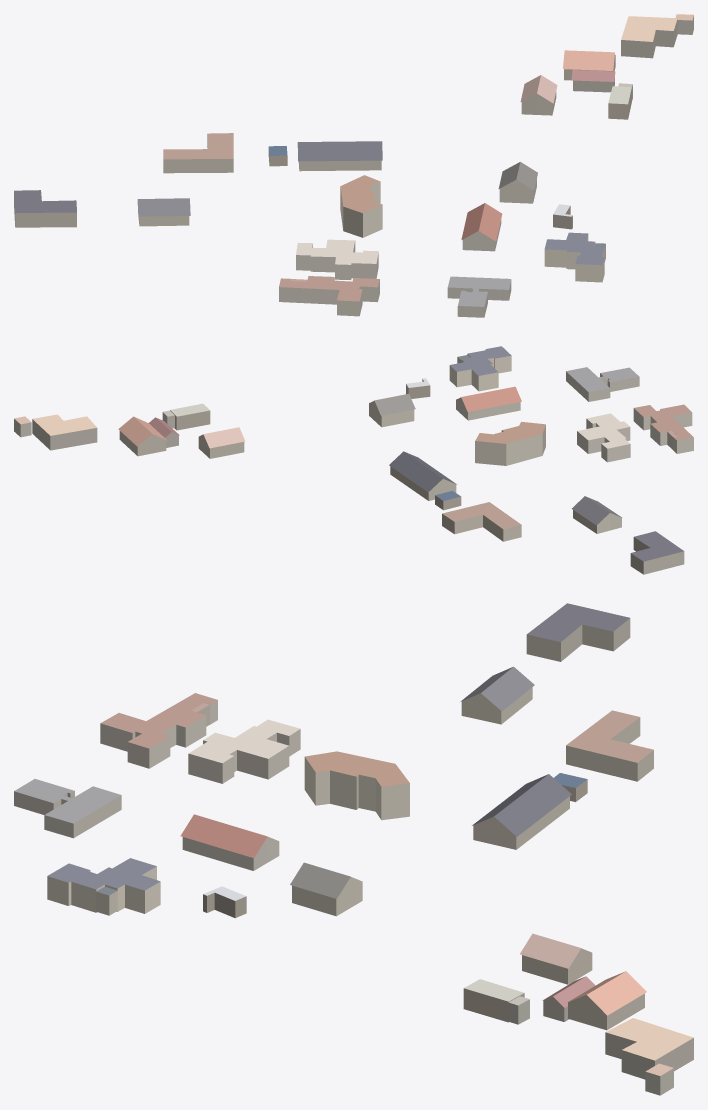
The picture shows the model from 3 angles, top to bottom: view 1: azimuth 30°, elevation 25°; view 2: azimuth 150°, elevation 25°; view 3: azimuth 270°, elevation 25°; orthographic projection. The views are drawn at different scales.
Parts seen in each view (by area): view 1: tuile; view 2: tuile; view 3: tuile.
Part boxes in pixels (x1=…): tuile: x1=14, y1=14, x2=693, y2=317; tuile: x1=14, y1=346, x2=693, y2=574; tuile: x1=14, y1=603, x2=693, y2=1095.
Bounding box in the file's own units: 246 × 11.49 × 150.
